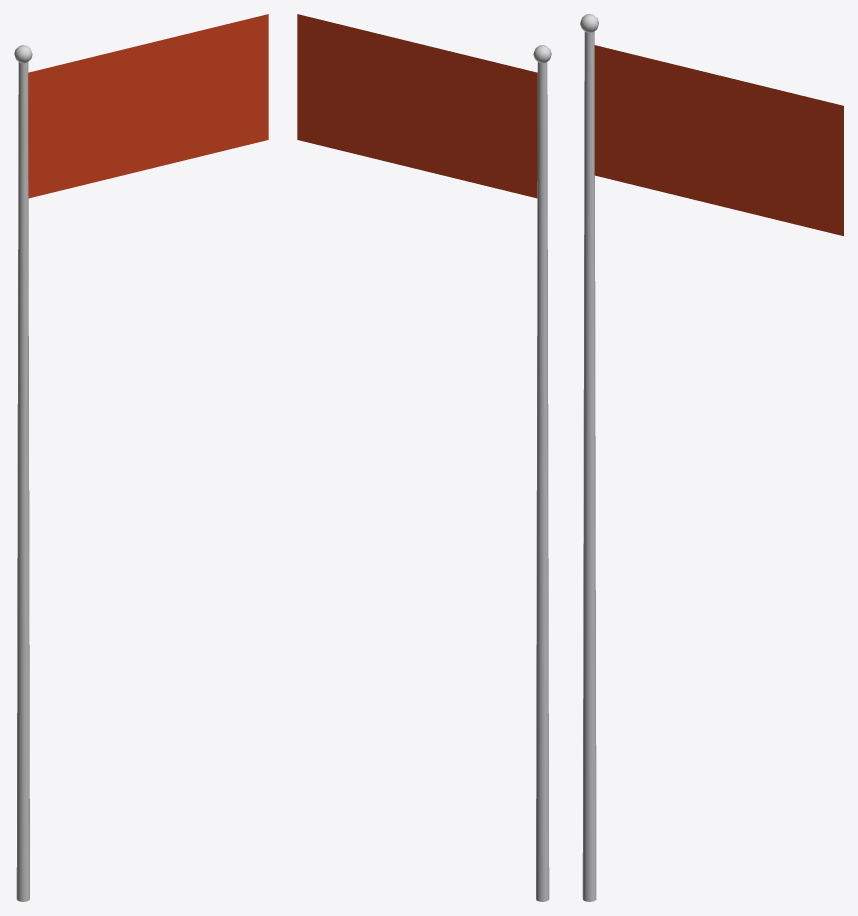
The model's file is flag.glb.
3 renders of one model, left to right at view 1: azimuth 30°, elevation 25°; view 2: azimuth 150°, elevation 25°; view 3: azimuth 330°, elevation 25°, orthographic. The views are drawn at different scales.
Visible parts, largest first — view 1: cloth, pole; view 2: cloth, pole; view 3: cloth, pole.
Part boxes in pixels (x1=…): cloth: x1=28, y1=14, x2=268, y2=198; pole: x1=14, y1=45, x2=32, y2=901; cloth: x1=297, y1=14, x2=537, y2=198; pole: x1=533, y1=45, x2=551, y2=901; cloth: x1=594, y1=45, x2=843, y2=236; pole: x1=580, y1=14, x2=598, y2=901.
Bounding box in the file's own units: 0.948 × 3.05 × 0.0571.
